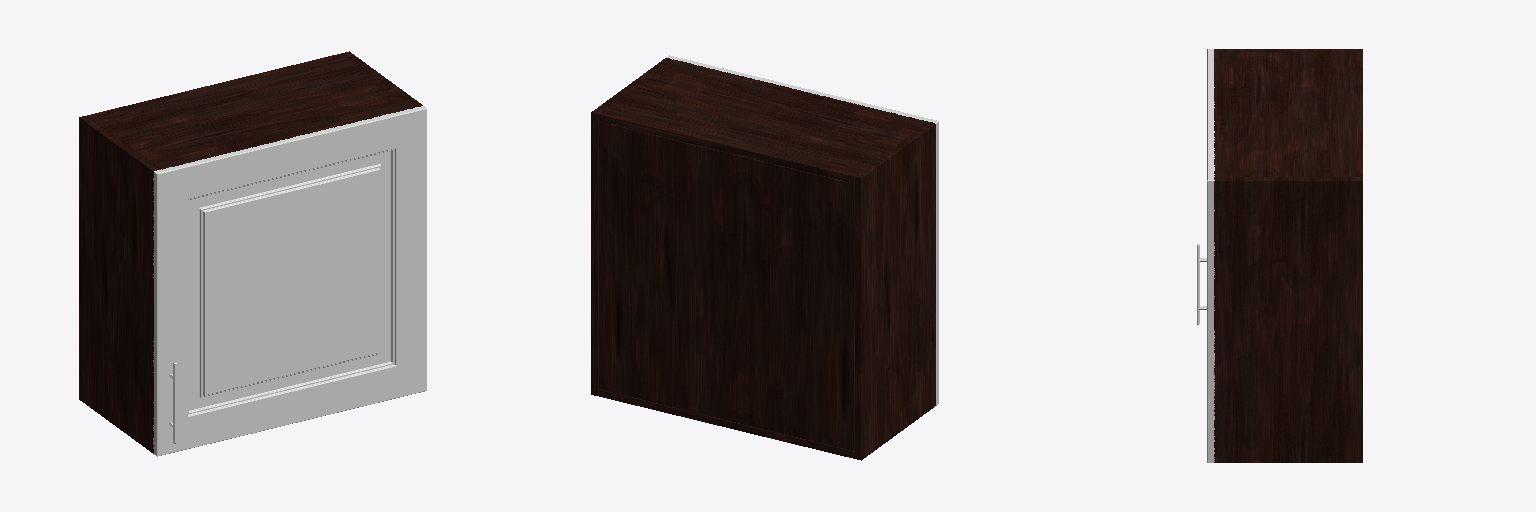
3 views of the same model, side by side, from view 1: azimuth 30°, elevation 25°; view 2: azimuth 150°, elevation 25°; view 3: azimuth 270°, elevation 25° (orthographic).
Size of the model in its own units: 0.6 by 0.6 by 0.3205.
Materials: 3 (2 with a texture image).